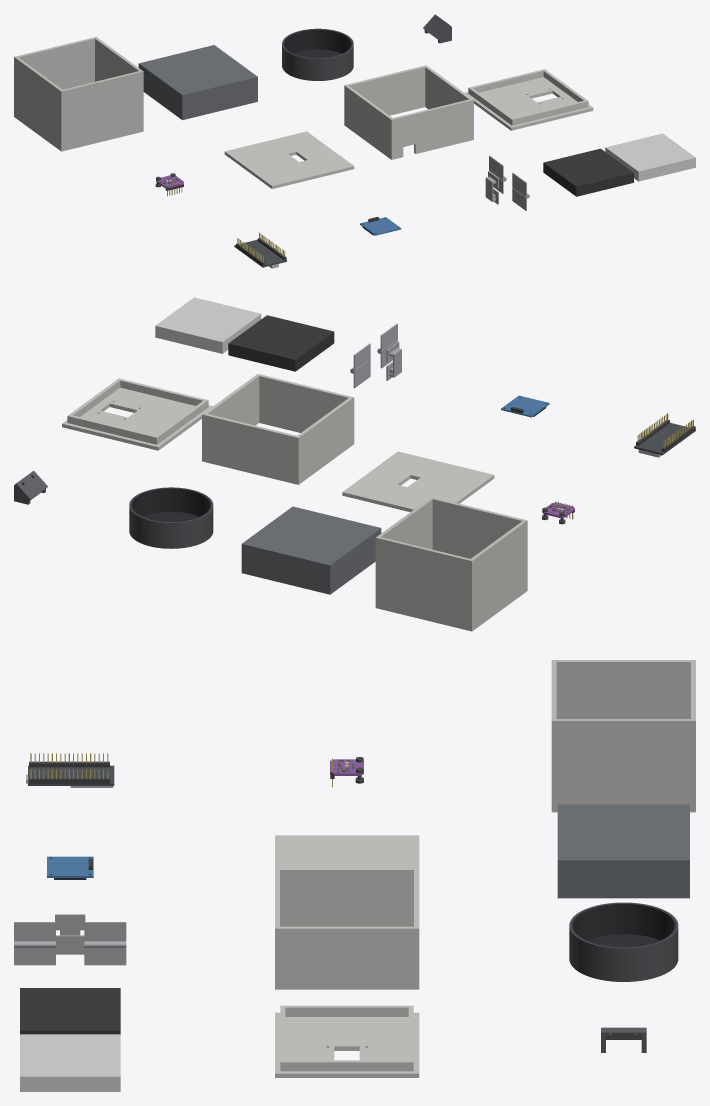
The model's file is katalog.glb.
The picture shows the model from 3 angles, top to bottom: view 1: azimuth 30°, elevation 25°; view 2: azimuth 150°, elevation 25°; view 3: azimuth 270°, elevation 25°; orthographic projection. The views are drawn at different scales.
Parts seen in each view (by area): view 1: k01__baki_kiri, k02__busa_3, k06__kepala_lantai, k07__kepala_kiri, k01__baki_depan, k08__kepala_tutup, k12__kal_hitam, k12__kal_putih, k01__baki_kanan, k07__kepala_kanan, k07__kepala_depan, k08__kepala_bibir (+11 smaller); view 2: k01__baki_kanan, k02__busa_3, k06__kepala_lantai, k07__kepala_kanan, k01__baki_depan, k08__kepala_tutup, k12__kal_hitam, k12__kal_putih, k01__baki_kiri, k07__kepala_kiri, k07__kepala_depan, k08__kepala_bibir (+12 smaller); view 3: k01__baki_belakang, k07__kepala_belakang, k02__busa_3, k07__kepala_depan, k01__baki_depan, k08__kepala_tutup, k12__kal_putih, k06__kepala_lantai, k12__kal_hitam, k03__tutup_cat, k08__kepala_bibir, k03__beludru (+7 smaller).
Boxes of the visible parts, <box> form: k01__baki_kiri: <box>63,71,140,147</box>; k02__busa_3: <box>138,45,257,103</box>; k06__kepala_lantai: <box>224,131,354,188</box>; k07__kepala_kiri: <box>393,99,470,158</box>; k01__baki_depan: <box>14,56,64,148</box>; k08__kepala_tutup: <box>465,77,593,130</box>; k12__kal_hitam: <box>543,148,633,196</box>; k12__kal_putih: <box>605,133,695,181</box>; k01__baki_kanan: <box>17,37,94,89</box>; k07__kepala_kanan: <box>347,66,425,115</box>; k07__kepala_depan: <box>344,84,394,159</box>; k08__kepala_bibir: <box>468,69,588,125</box>; k01__baki_kanan: <box>379,537,469,626</box>; k02__busa_3: <box>241,506,381,574</box>; k06__kepala_lantai: <box>342,451,494,511</box>; k07__kepala_kanan: <box>205,414,296,483</box>; k01__baki_depan: <box>468,519,527,627</box>; k08__kepala_tutup: <box>62,387,212,450</box>; k12__kal_hitam: <box>228,315,334,371</box>; k12__kal_putih: <box>155,297,261,353</box>; k01__baki_kiri: <box>432,498,523,558</box>; k07__kepala_kiri: <box>259,374,350,432</box>; k07__kepala_depan: <box>295,396,354,484</box>; k08__kepala_bibir: <box>67,378,208,444</box>; k01__baki_belakang: <box>551,719,695,807</box>; k07__kepala_belakang: <box>275,926,419,989</box>; k02__busa_3: <box>557,804,689,872</box>; k07__kepala_depan: <box>275,867,419,926</box>; k01__baki_depan: <box>551,660,695,718</box>; k08__kepala_tutup: <box>275,1012,419,1077</box>; k12__kal_putih: <box>20,1034,120,1091</box>; k06__kepala_lantai: <box>275,835,419,867</box>; k12__kal_hitam: <box>20,988,120,1034</box>; k03__tutup_cat: <box>569,902,678,981</box>; k08__kepala_bibir: <box>280,1005,413,1071</box>; k03__beludru: <box>572,903,675,947</box>.
Bounding box in the file's own units: 0.4805 × 0.06 × 0.4065.
